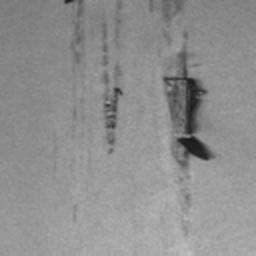Slag inclusion: (159, 31, 218, 172), (58, 0, 86, 65), (100, 0, 125, 68), (102, 84, 124, 156), (146, 0, 186, 28), (100, 61, 129, 86), (184, 192, 189, 204)
